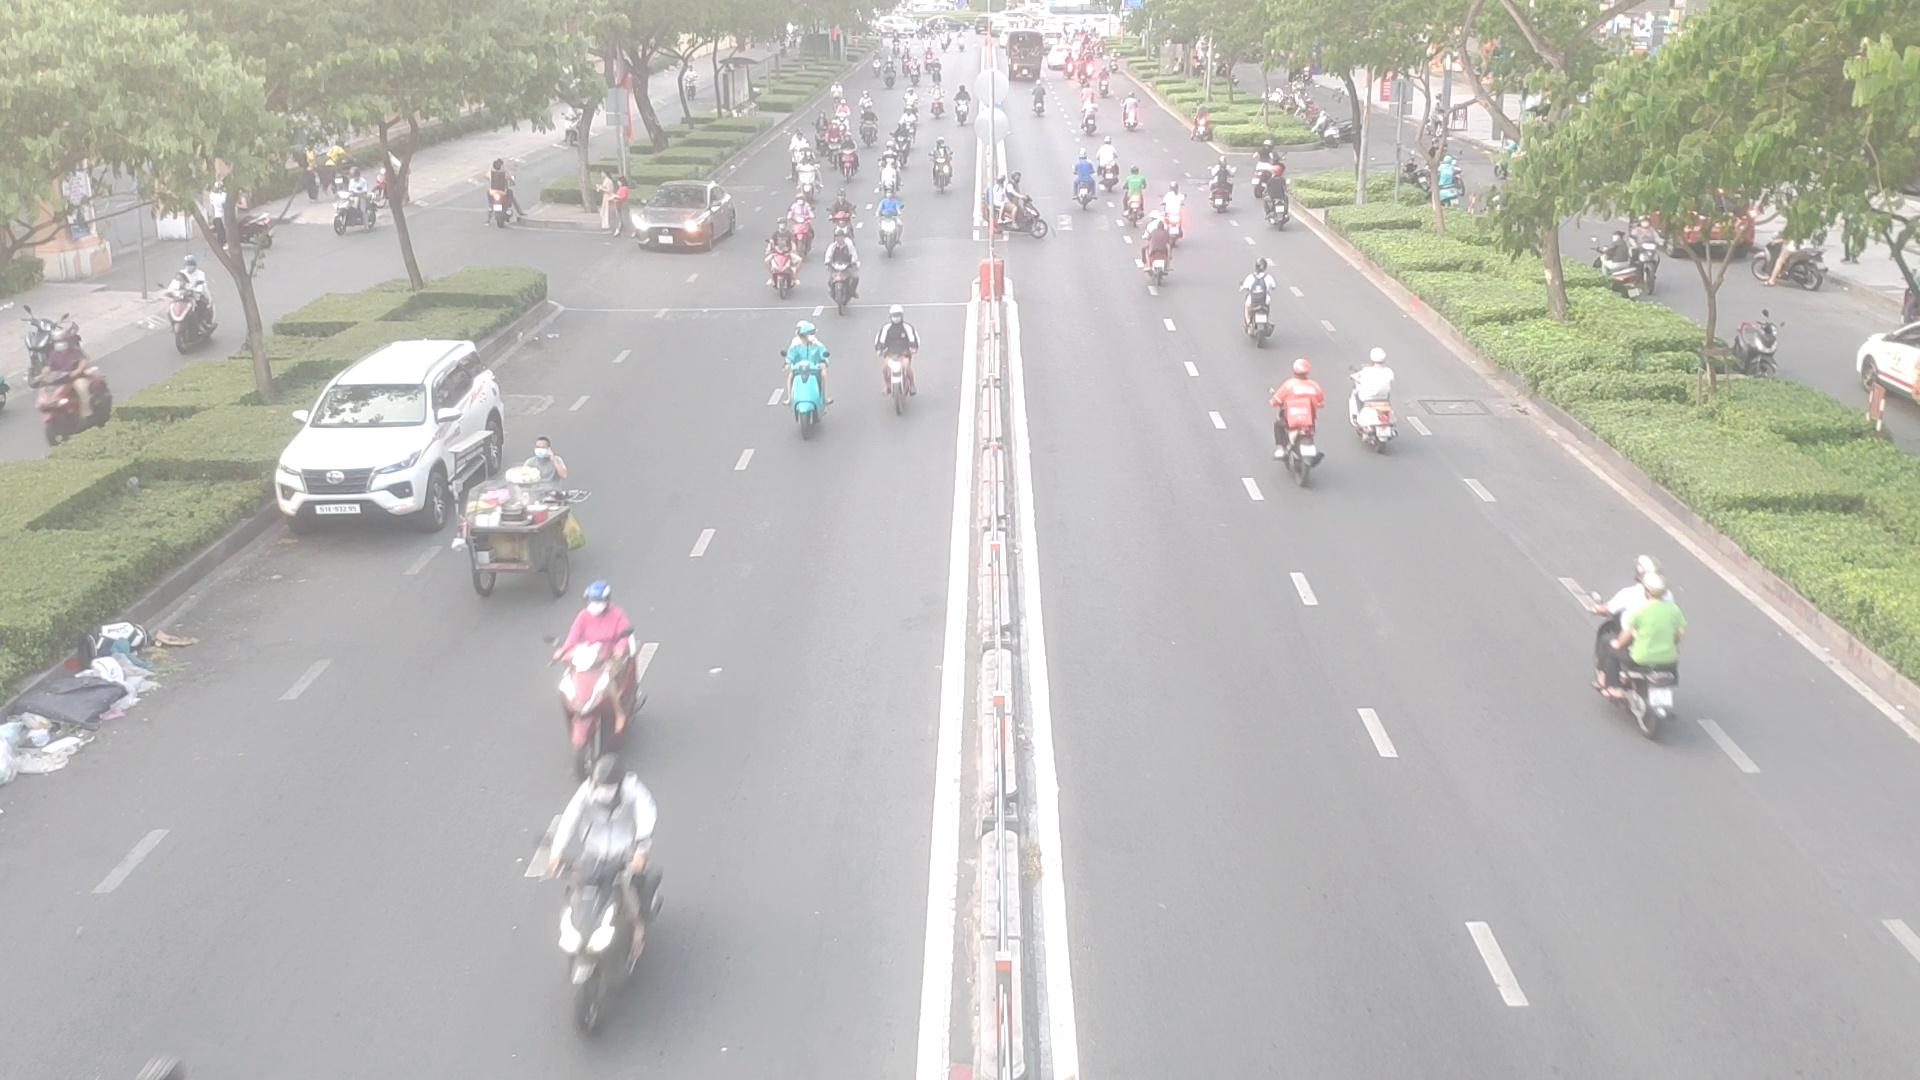car: (276, 349, 524, 535), (618, 193, 752, 255)
motorbike: (549, 760, 658, 1048), (1581, 563, 1702, 744), (539, 597, 651, 756), (1259, 363, 1338, 487), (774, 332, 843, 439), (1346, 357, 1414, 463), (870, 318, 924, 418), (1237, 266, 1288, 349), (758, 227, 803, 295), (824, 247, 866, 311), (866, 195, 910, 256), (777, 204, 819, 262), (1069, 156, 1114, 210), (1138, 232, 1175, 287), (930, 150, 957, 196), (835, 142, 862, 179)
